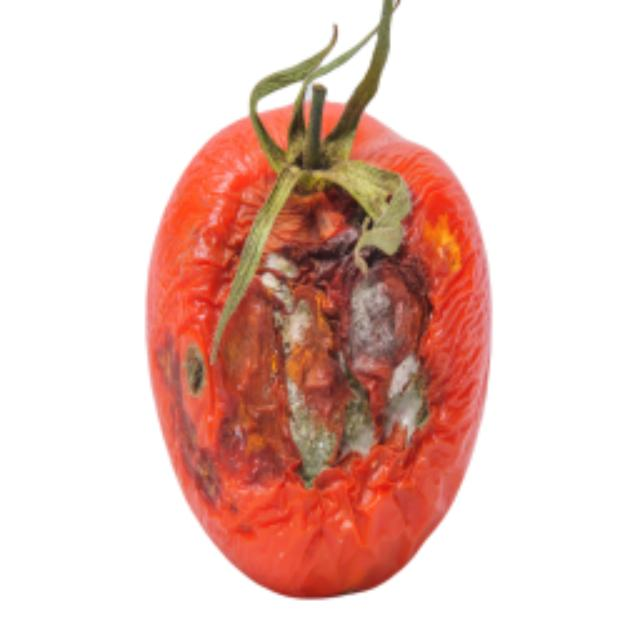defect: (136, 130, 499, 597)
